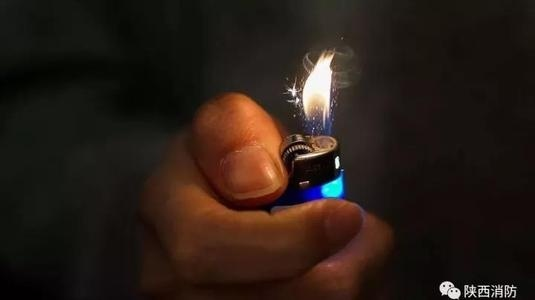fire: (291, 46, 336, 130)
